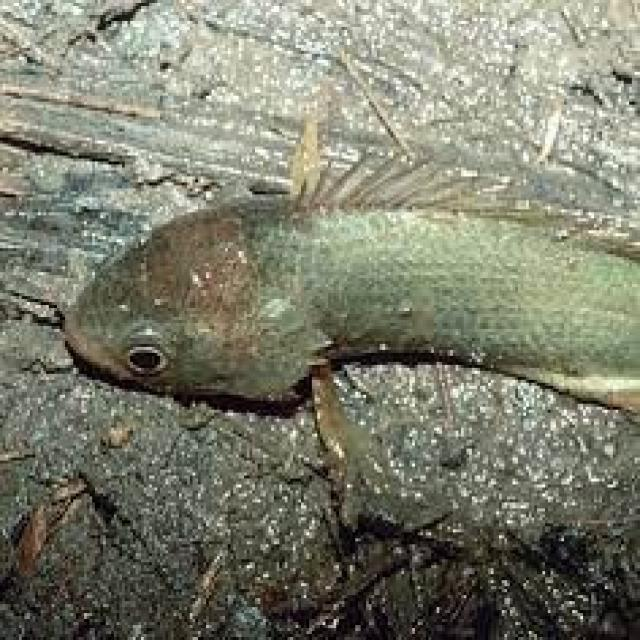Climbing-Perch: (68, 119, 640, 532)
